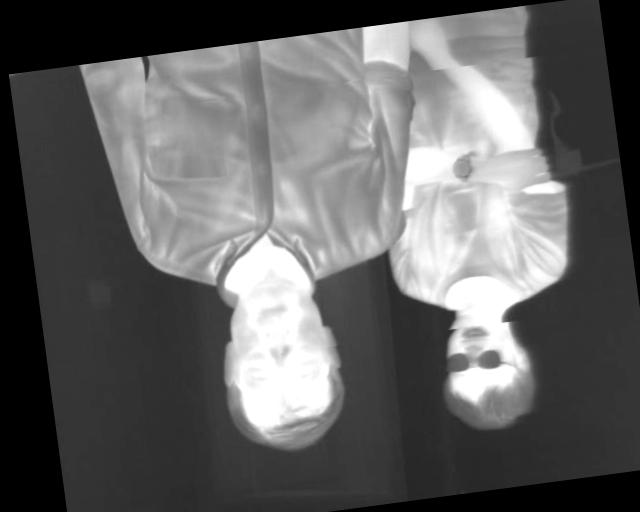face: (210, 266, 352, 460), (434, 299, 540, 436)
